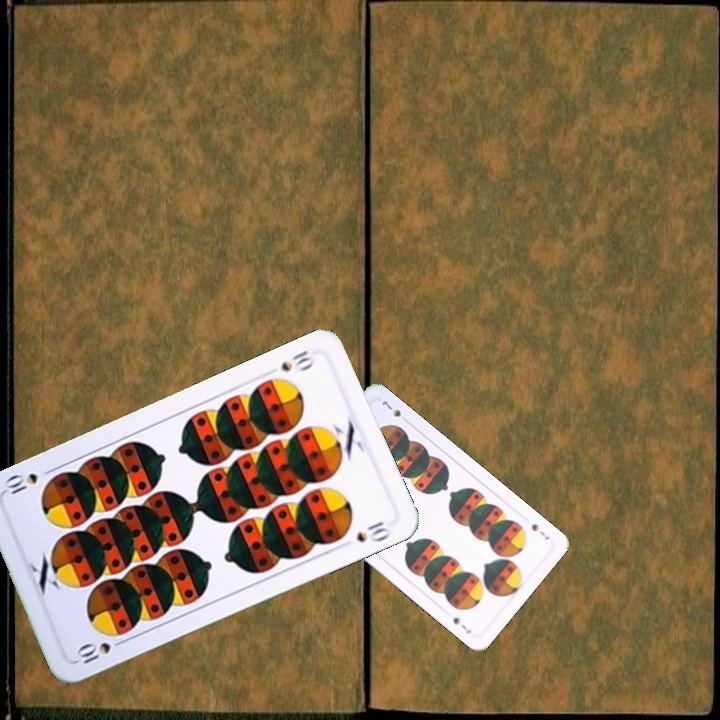S10: (72, 635, 129, 667), (277, 346, 316, 375)
S7: (527, 520, 552, 542)
